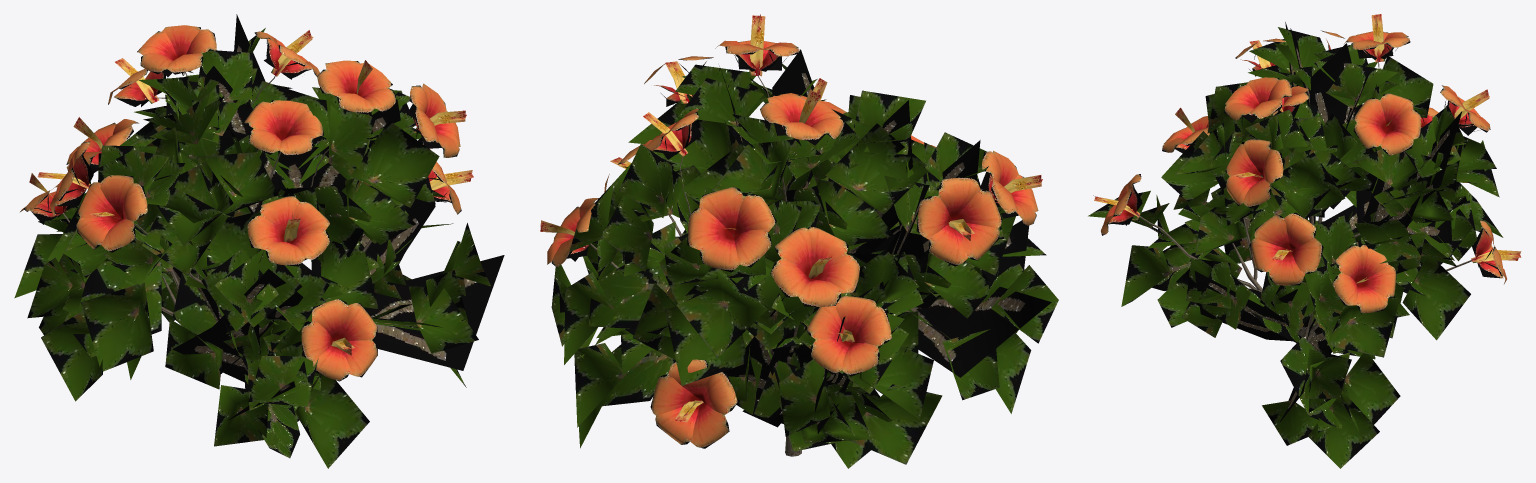
Rendered from SM_pal_b06_bush_hibiscus_02_4813a0.glb.
3 renders of one model, left to right at view 1: azimuth 30°, elevation 25°; view 2: azimuth 150°, elevation 25°; view 3: azimuth 270°, elevation 25°, orthographic. The views are drawn at different scales.
Size of the model in its own units: 1.43 by 1.17 by 1.3.
Materials: 2 (2 with a texture image).
